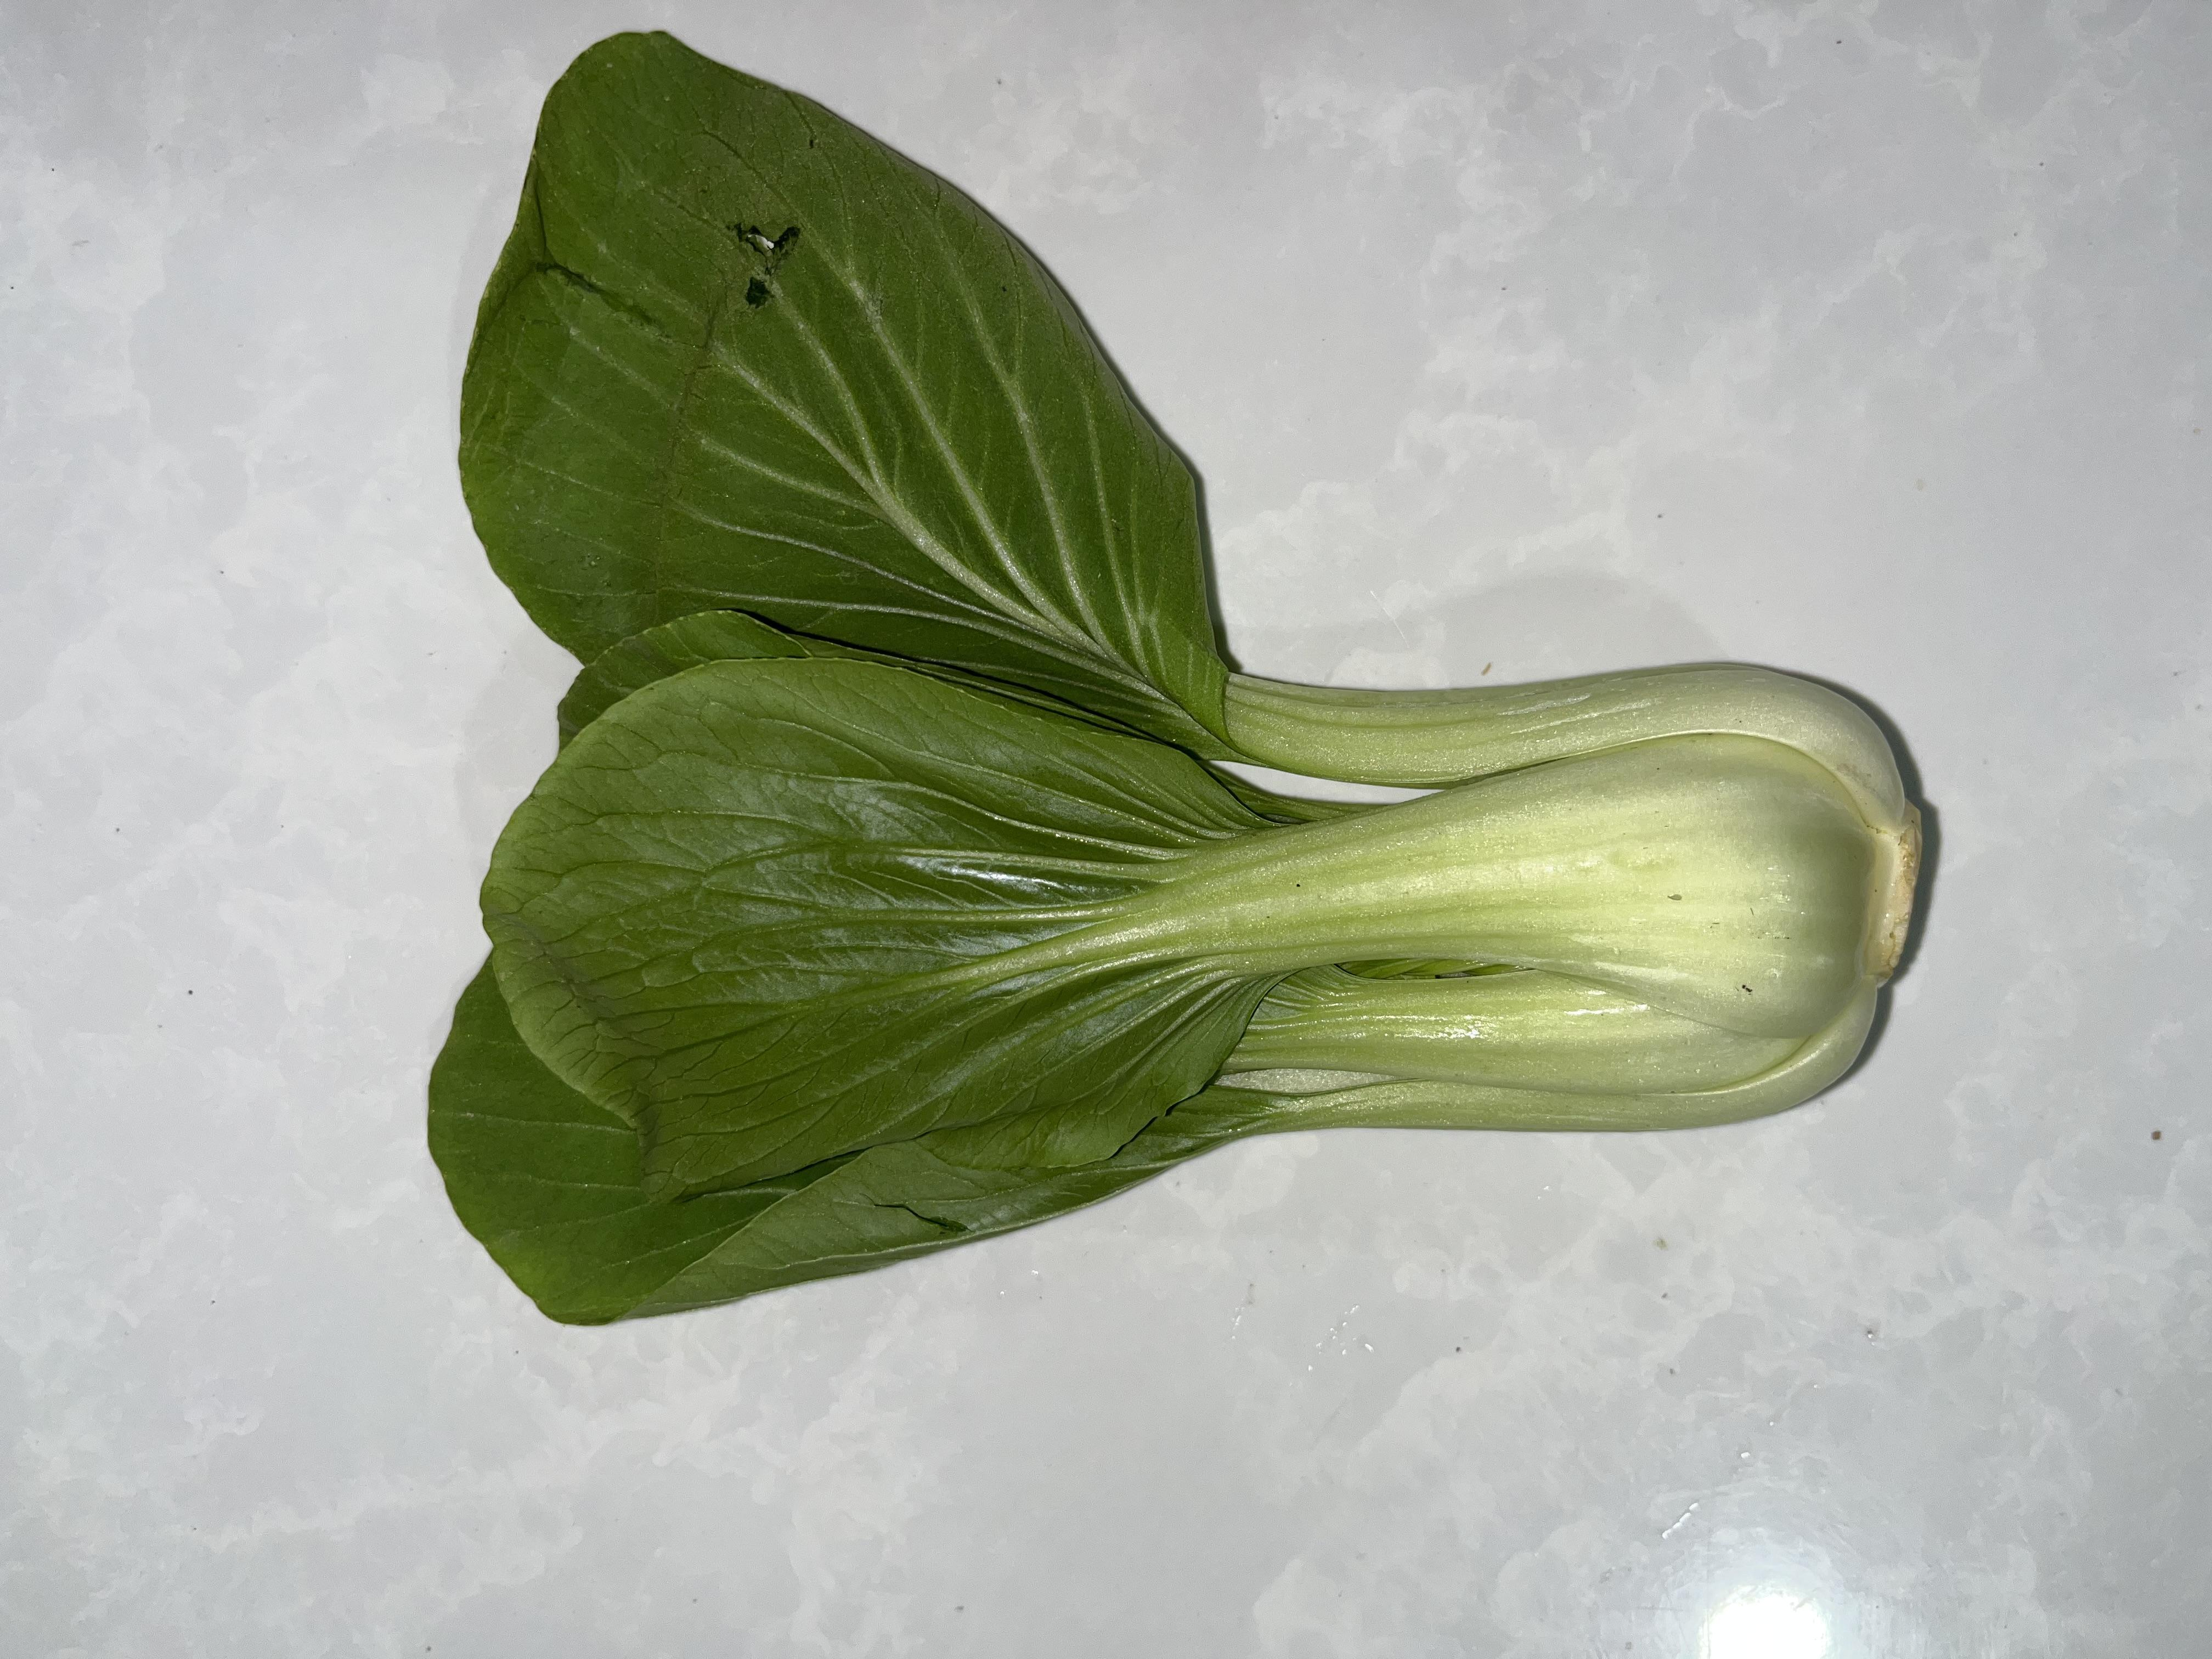Healthy-Pechay: (319, 33, 1947, 1356)
